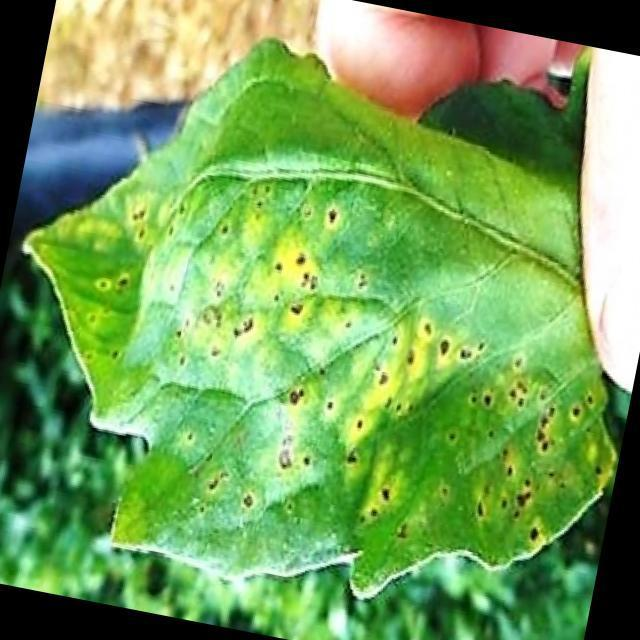Bacterial Spot: (117, 168, 601, 555)
